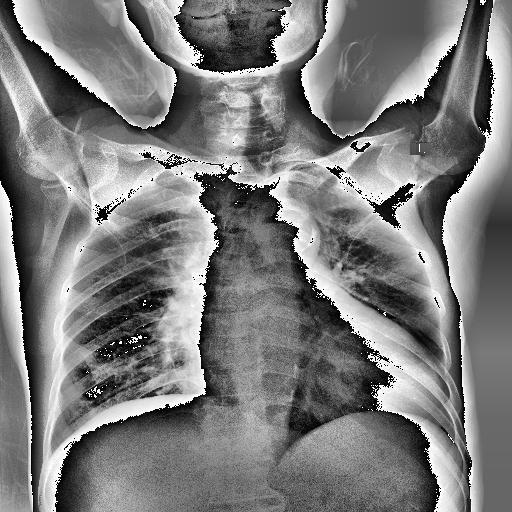0- Aortic enlargement: (252, 206, 319, 278), (241, 204, 321, 260), (253, 202, 321, 262)
3- Cardiomegaly: (196, 316, 442, 416), (190, 322, 438, 414), (192, 344, 440, 421)
